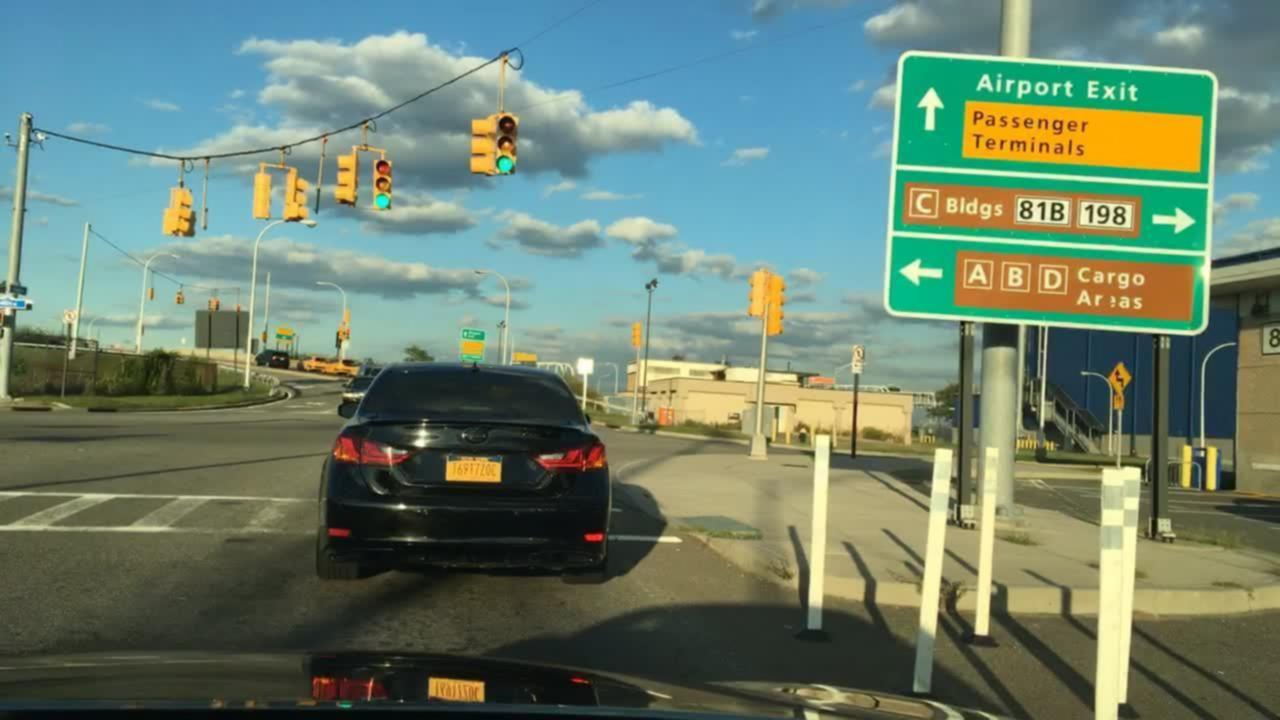lexus: (457, 422, 490, 448)
